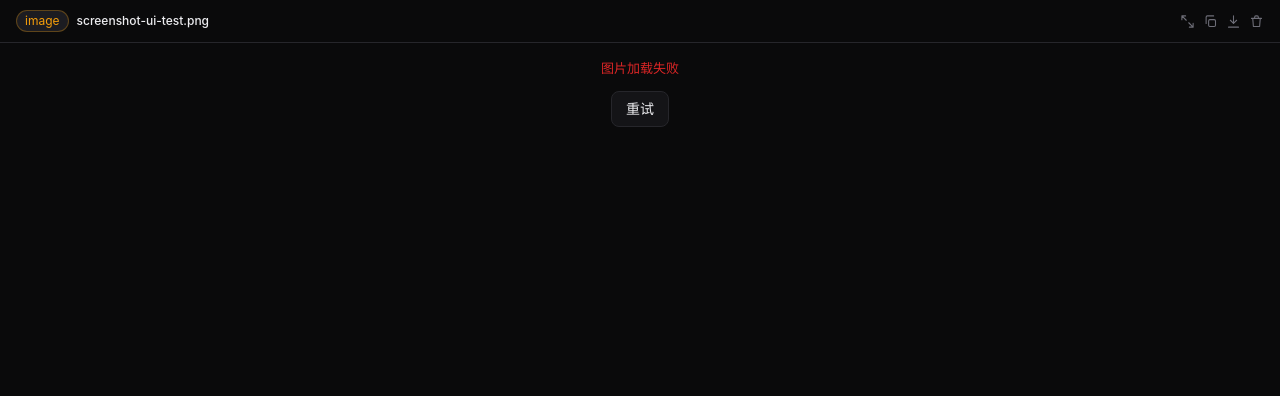
Scenario: ArtifactPreview image preview UI › shows download error with retry and recovers on retry
The width and height of the screenshot is (1280, 396).
Expected: the element with test id "artifact-preview-image-error" is shown, x1=601 y1=60 x2=679 y2=126
Click the button with test id "artifact-preview-image-retry". click: (640, 108)
box: x1=611 y1=90 x2=669 y2=126
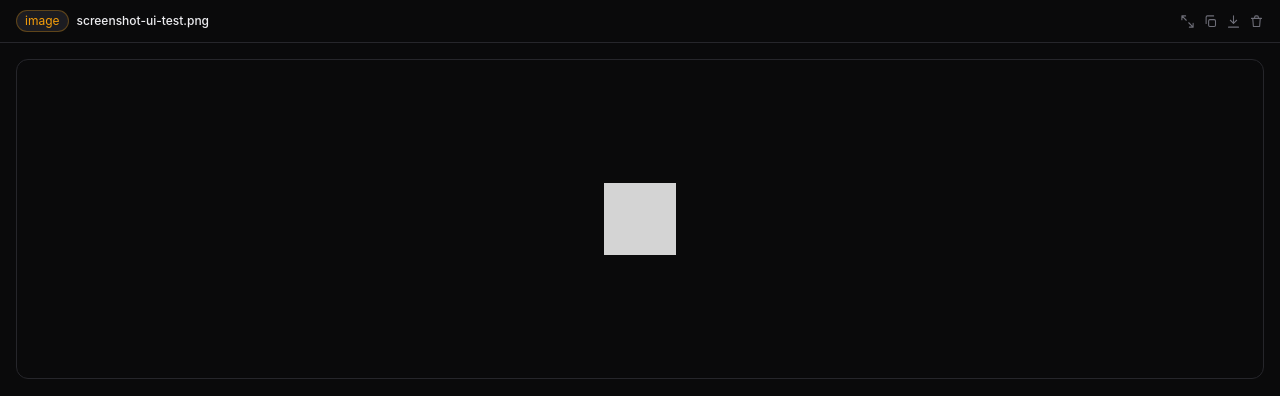
Expected: the element with test id "artifact-preview-image-wrap" is shown
